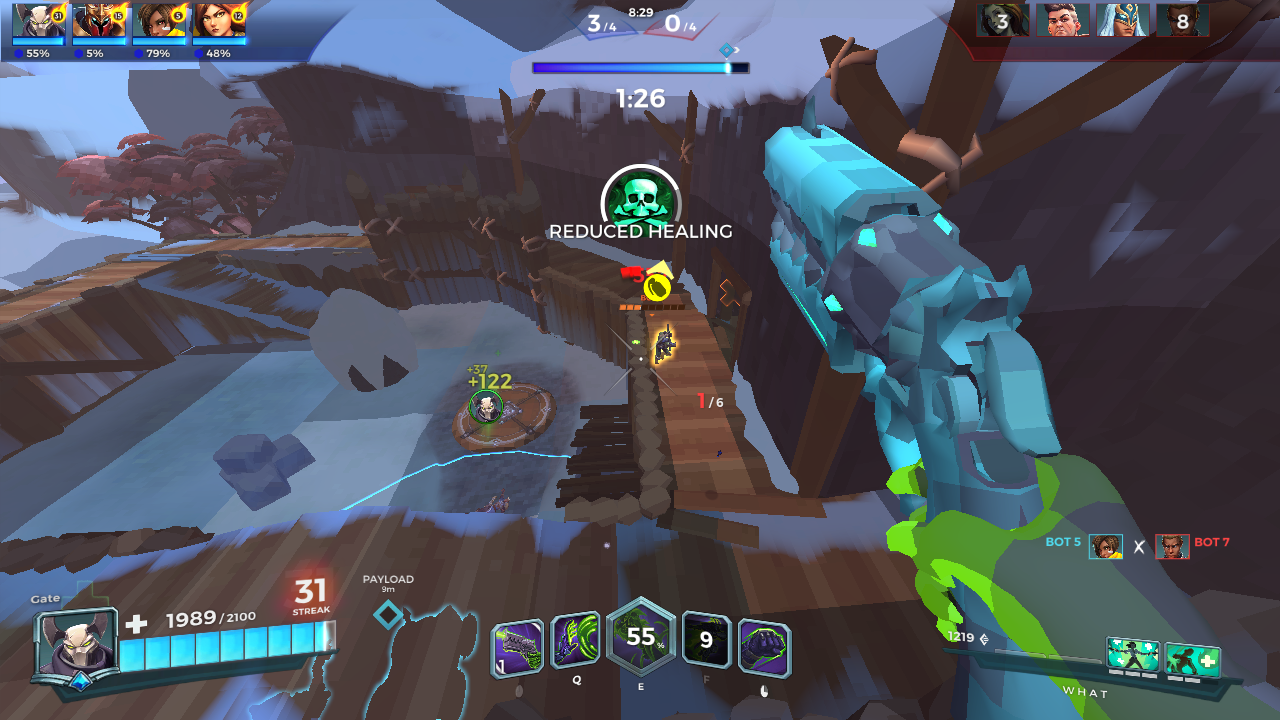model: (651, 322, 680, 368)
